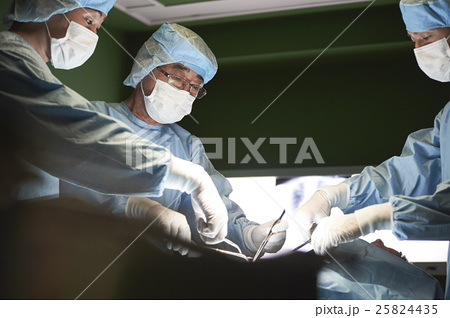mask: (145, 81, 199, 134), (50, 28, 103, 66), (410, 45, 450, 81)
